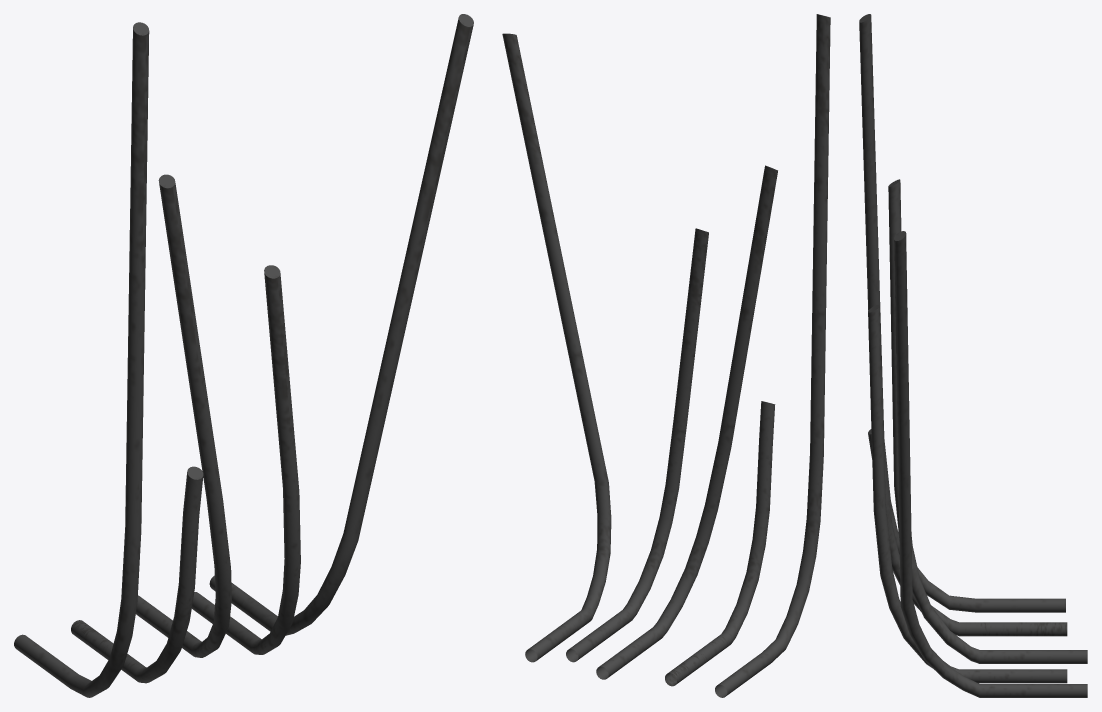
File: Curved Iron Rods.fbx
3 views of the same model, side by side, from view 1: azimuth 30°, elevation 25°; view 2: azimuth 150°, elevation 25°; view 3: azimuth 270°, elevation 25° (orthographic). The views are drawn at different scales.
Parts seen in each view (by area): view 1: Curved Stopper Pin.002, Curved Stopper Pin.005, Curved Stopper Pin.003, Curved Stopper Pin.006, Curved Stopper Pin.004; view 2: Curved Stopper Pin.002, Curved Stopper Pin.005, Curved Stopper Pin.003, Curved Stopper Pin.006, Curved Stopper Pin.004; view 3: Curved Stopper Pin.005, Curved Stopper Pin.002, Curved Stopper Pin.006, Curved Stopper Pin.003, Curved Stopper Pin.004.
Part boxes in pixels (box(x1,y1,x2,y2)): Curved Stopper Pin.002: box(14, 22, 149, 697); Curved Stopper Pin.005: box(209, 14, 473, 635); Curved Stopper Pin.003: box(136, 174, 231, 657); Curved Stopper Pin.006: box(191, 265, 300, 654); Curved Stopper Pin.004: box(71, 466, 203, 683); Curved Stopper Pin.002: box(715, 14, 830, 697); Curved Stopper Pin.005: box(502, 33, 611, 662); Curved Stopper Pin.003: box(596, 165, 777, 679); Curved Stopper Pin.006: box(566, 228, 708, 662); Curved Stopper Pin.004: box(665, 401, 775, 686); Curved Stopper Pin.005: box(894, 231, 1087, 697); Curved Stopper Pin.002: box(859, 14, 1065, 612); Curved Stopper Pin.006: box(868, 304, 1067, 683); Curved Stopper Pin.003: box(888, 179, 1087, 663); Curved Stopper Pin.004: box(868, 429, 1067, 636).
Size of the model in its own units: 37.4 by 70.68 by 24.53.
Materials: 1 (1 with a texture image).
